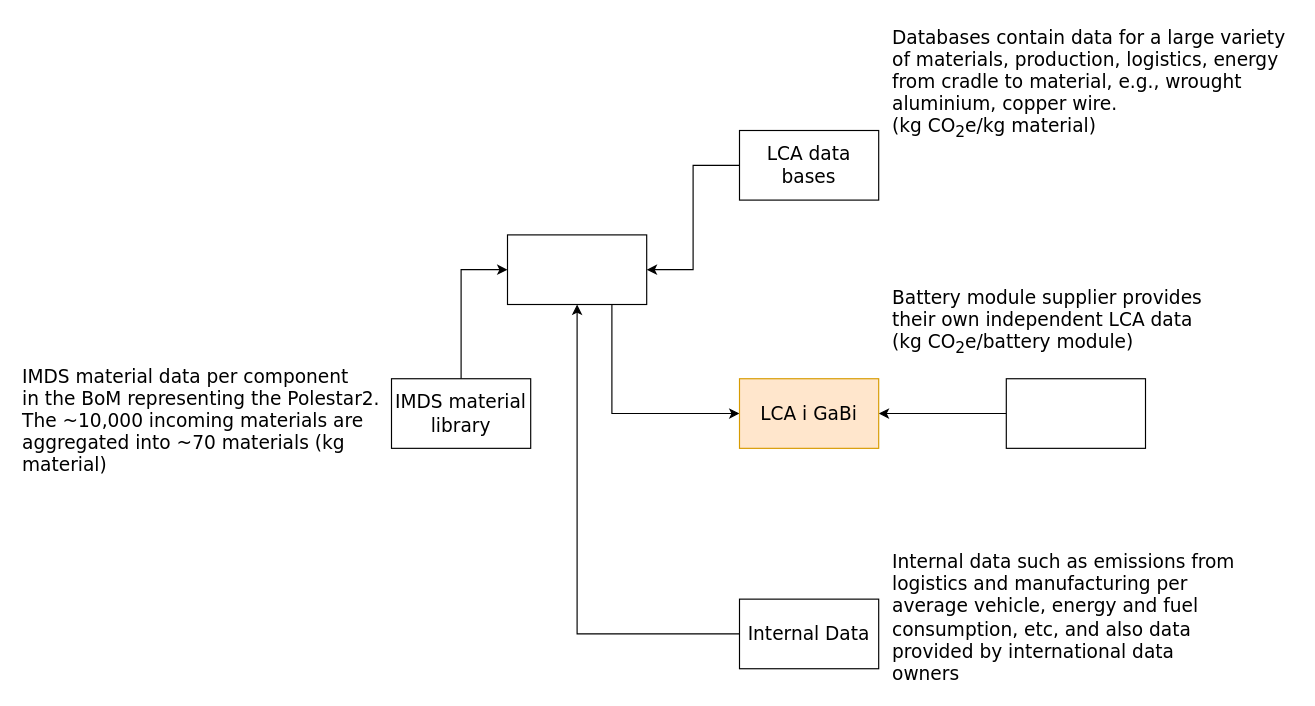
The diagram is 1315 pixels wide and 706 high, and some of its shapes have lost their labels. Here are the shapes that lost their labels. From the top down, the centre of each, then its label:
At pixel 576 269: "Matching".
At pixel 1075 413: "Battery module supplier data".
